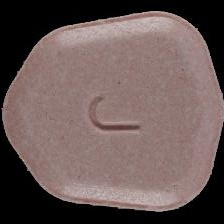31722-777: (0, 0, 224, 224)
